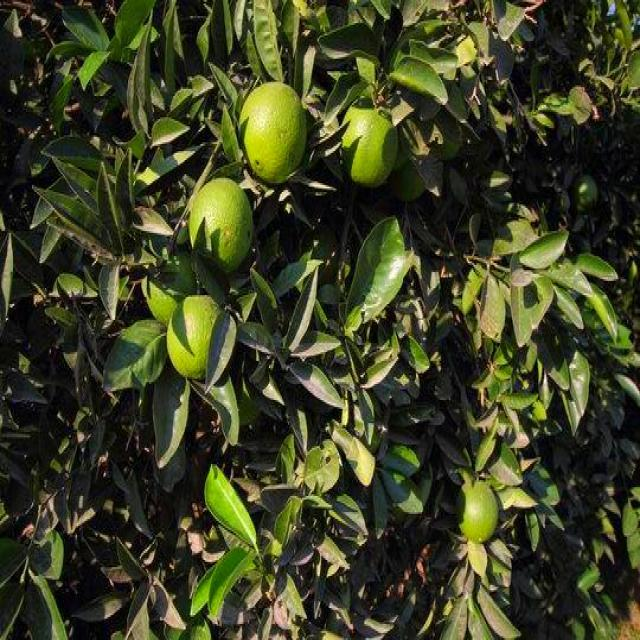Jeruk Belum Matang: (238, 82, 307, 188), (190, 178, 258, 270), (166, 292, 226, 378), (339, 103, 397, 190), (144, 250, 190, 322), (455, 480, 498, 540)
